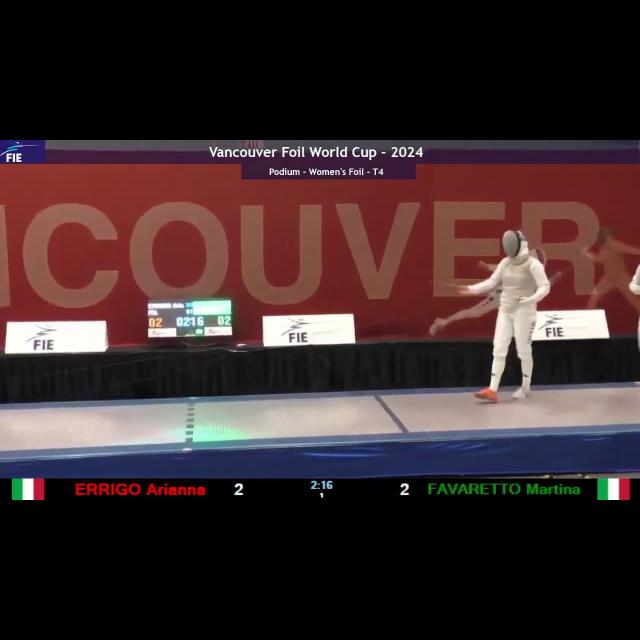blade: (429, 280, 525, 306)
